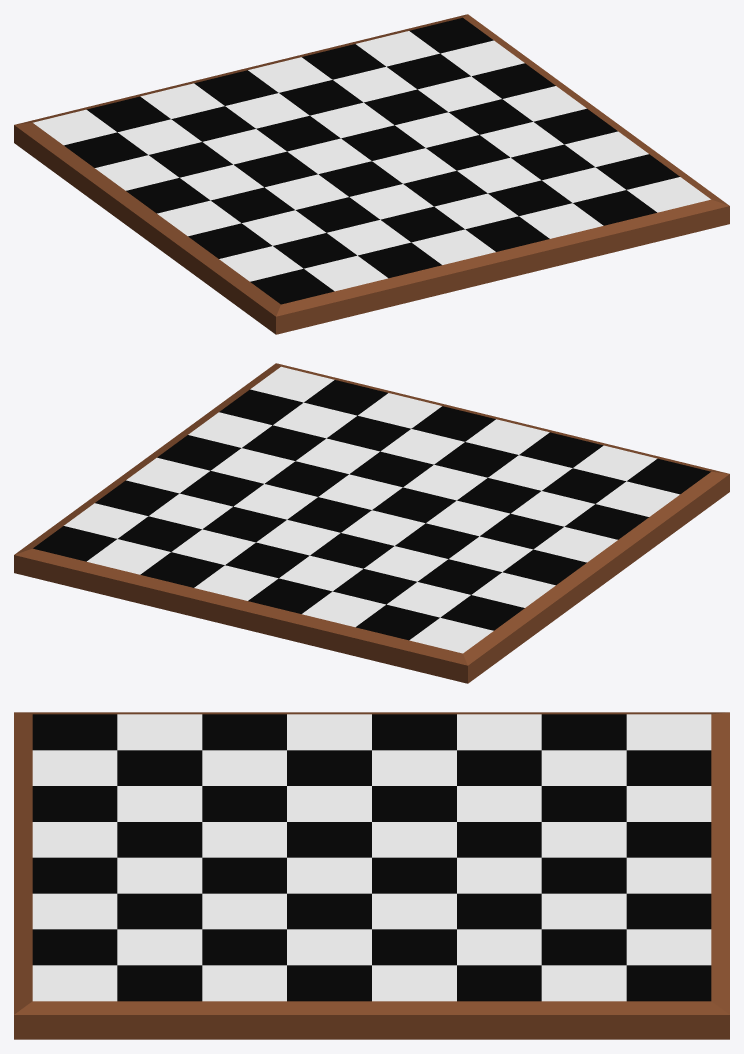
The model's file is chessboard01.obj.
The picture shows the model from 3 angles, top to bottom: view 1: azimuth 30°, elevation 25°; view 2: azimuth 150°, elevation 25°; view 3: azimuth 270°, elevation 25°; orthographic projection. The views are drawn at different scales.
Parts seen in each view (by area): view 1: Cube; view 2: Cube; view 3: Cube.
Boxes of the visible parts, x1,y1,x2,y2 form: Cube: (14,14,729,334); Cube: (14,363,729,683); Cube: (14,712,729,1039).
Bounding box in the file's own units: 0.3001 × 0.0141 × 0.3001.
